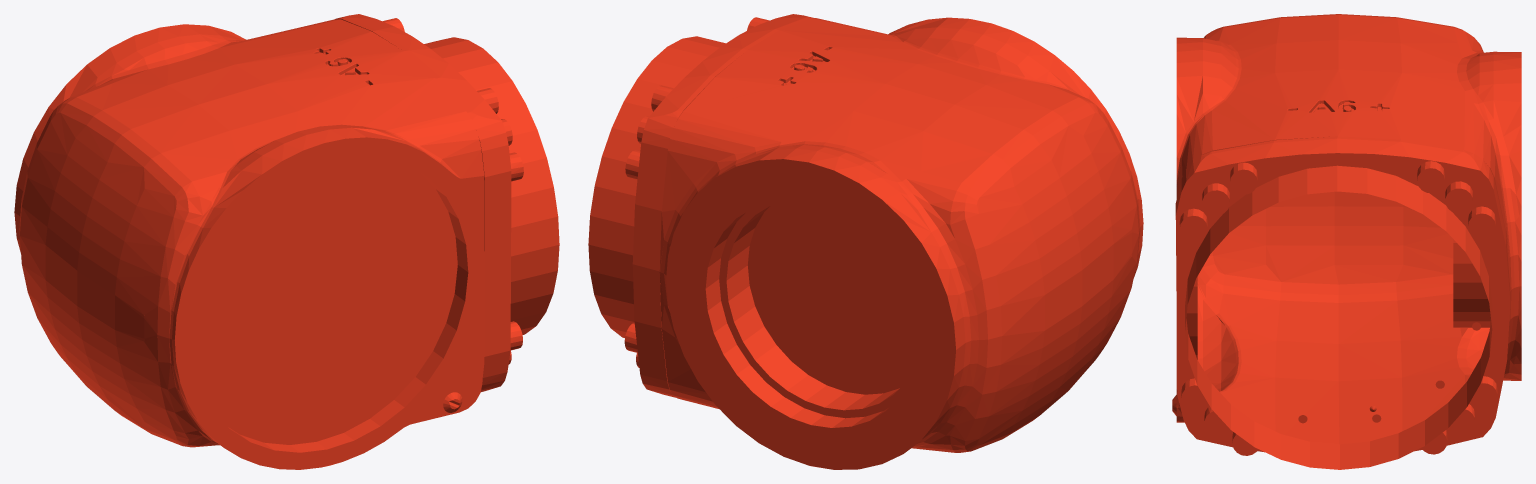
The picture shows the model from 3 angles, left to right: view 1: azimuth 30°, elevation 25°; view 2: azimuth 150°, elevation 25°; view 3: azimuth 270°, elevation 25°; orthographic projection.
Parts seen in each view (by area): view 1: link_5; view 2: link_5; view 3: link_5.
Boxes of the visible parts, x1,y1,x2,y2 form: link_5: [14, 14, 559, 469]; link_5: [588, 14, 1143, 469]; link_5: [1172, 14, 1521, 469].
Size of the model in its own units: 0.1685 by 0.125 by 0.128.
